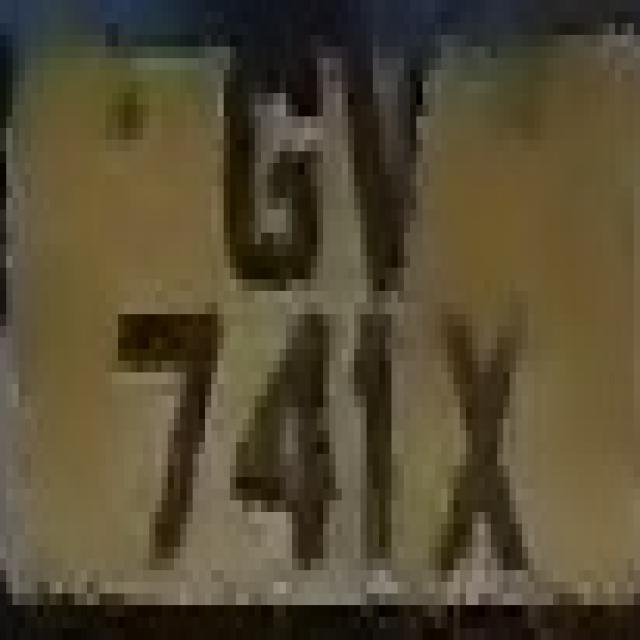1: (342, 244, 404, 582)
4: (224, 291, 329, 605)
7: (118, 268, 230, 570)
G: (193, 58, 354, 303)
V: (311, 23, 454, 303)
X: (429, 268, 547, 628)
